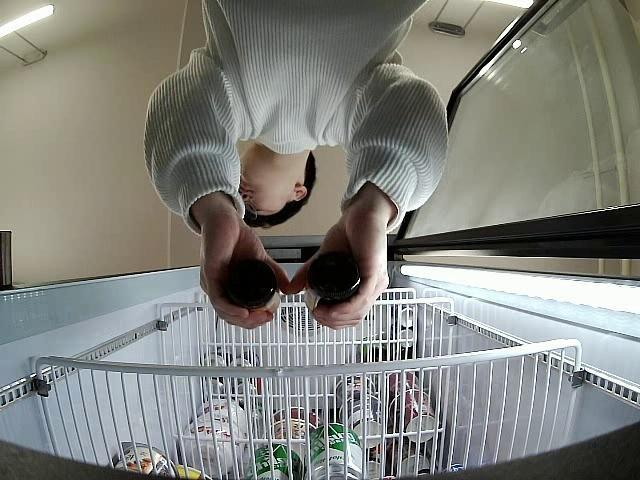17_vita500: (306, 250, 364, 314), (218, 260, 281, 314)
